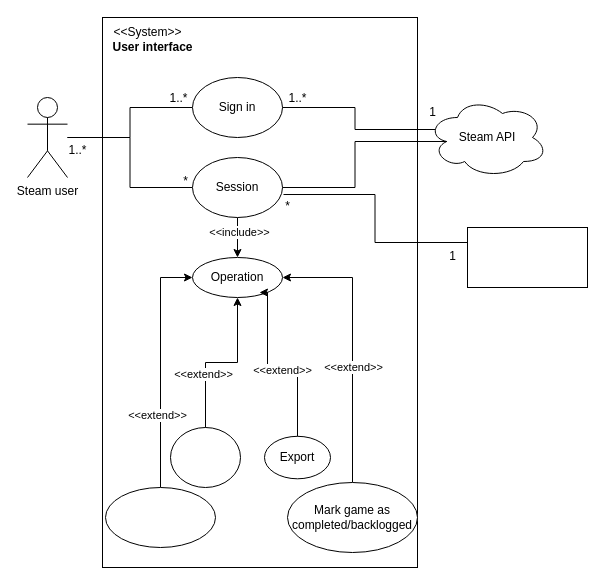
The diagram is 605 pixels wide and 585 high, and some of its shapes have lost their labels. The box of each missing label's shape, as (x1, y1, x2, y2) in pixels:
Back-end service: (466, 226, 588, 288)
Complete simple survey: (104, 486, 216, 548)
Filter/sort: (170, 426, 240, 488)
